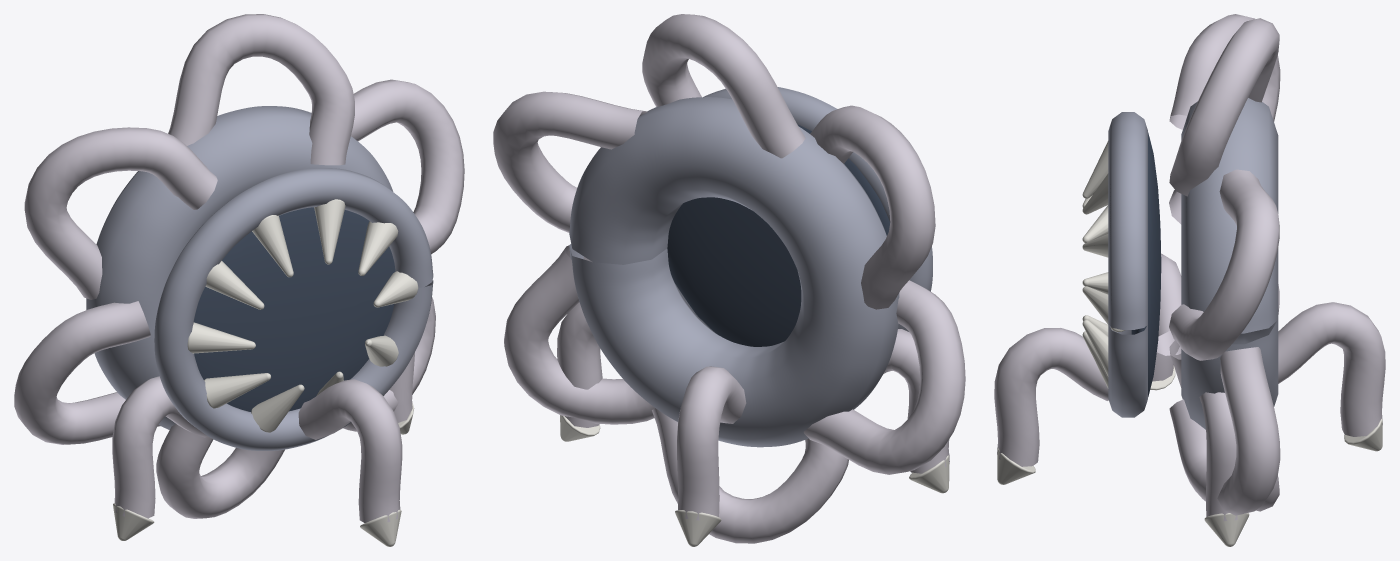
The model's file is bio_spiral_maw_02_near.glb.
The picture shows the model from 3 angles, left to right: view 1: azimuth 30°, elevation 25°; view 2: azimuth 150°, elevation 25°; view 3: azimuth 270°, elevation 25°; orthographic projection. The views are drawn at different scales.
Visible parts, largest first — view 1: Recessed mouth cavity, Raised oral lip, Rear muscular torus, Coiling oral limb.001, Coiling oral limb.002, Inward tooth, Coiling oral limb.003, Coiling oral limb, Crooked support.003, Coiling oral limb.004, Crooked support.002, Coiling oral limb.005 (+3 smaller); view 2: Rear muscular torus, Recessed mouth cavity, Coiling oral limb.003, Coiling oral limb.002, Coiling oral limb.001, Coiling oral limb, Coiling oral limb.005, Coiling oral limb.004, Crooked support.001, Crooked support, Raised oral lip, Crooked support.002 (+3 smaller); view 3: Rear muscular torus, Raised oral lip, Coiling oral limb, Coiling oral limb.005, Coiling oral limb.001, Crooked support.001, Crooked support.003, Inward tooth, Coiling oral limb.002, Crooked support, Recessed mouth cavity, Crooked support.002 (+4 smaller).
Part boxes in pixels (x1,y1,x2,y2): Recessed mouth cavity: (194, 207, 395, 411); Raised oral lip: (154, 168, 433, 450); Rear muscular torus: (86, 106, 393, 429); Coiling oral limb.001: (168, 14, 354, 165); Coiling oral limb.002: (24, 127, 217, 299); Inward tooth: (187, 199, 418, 432); Coiling oral limb.003: (14, 301, 160, 444); Coiling oral limb: (351, 79, 464, 253); Crooked support.003: (298, 379, 402, 522); Coiling oral limb.004: (156, 424, 284, 518); Crooked support.002: (112, 376, 207, 518); Coiling oral limb.005: (343, 297, 435, 431); Rear muscular torus: (569, 97, 899, 447); Recessed mouth cavity: (667, 124, 889, 346); Coiling oral limb.003: (803, 280, 965, 474); Coiling oral limb.002: (810, 105, 935, 309); Coiling oral limb.001: (642, 14, 805, 158); Coiling oral limb: (493, 91, 647, 232); Coiling oral limb.005: (504, 245, 655, 424); Coiling oral limb.004: (652, 408, 848, 543); Crooked support.001: (677, 366, 746, 520); Crooked support: (557, 302, 602, 427); Raised oral lip: (675, 87, 932, 333); Crooked support.002: (883, 329, 949, 473); Rear muscular torus: (1181, 98, 1278, 429); Raised oral lip: (1108, 112, 1147, 417); Coiling oral limb: (1169, 169, 1279, 360); Coiling oral limb.005: (1169, 347, 1280, 515); Coiling oral limb.001: (1169, 18, 1279, 196); Crooked support.001: (1278, 302, 1385, 436); Crooked support.003: (994, 328, 1108, 466); Inward tooth: (1082, 141, 1124, 388); Coiling oral limb.002: (1169, 14, 1280, 129); Crooked support: (1199, 392, 1237, 521); Recessed mouth cavity: (1131, 132, 1161, 396); Crooked support.002: (1152, 253, 1181, 381).
Size of the model in its own units: 2.33 by 2.48 by 1.77.
